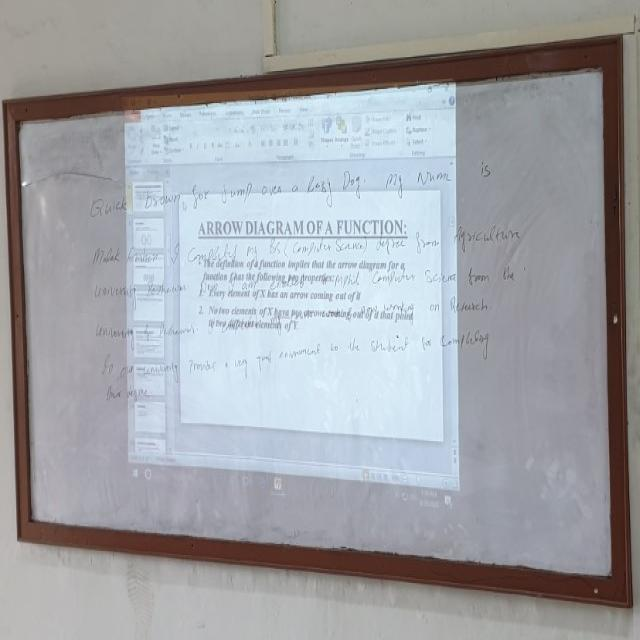Slide: (122, 82, 462, 518)
White-board: (16, 57, 620, 589)
